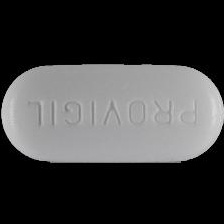43353-925: (0, 0, 224, 224)
